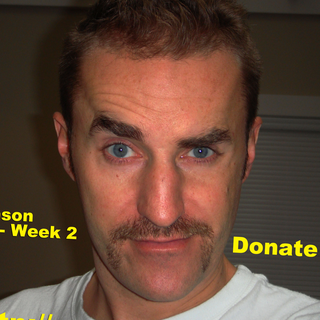eye: (95, 136, 147, 167), (172, 140, 225, 165)
